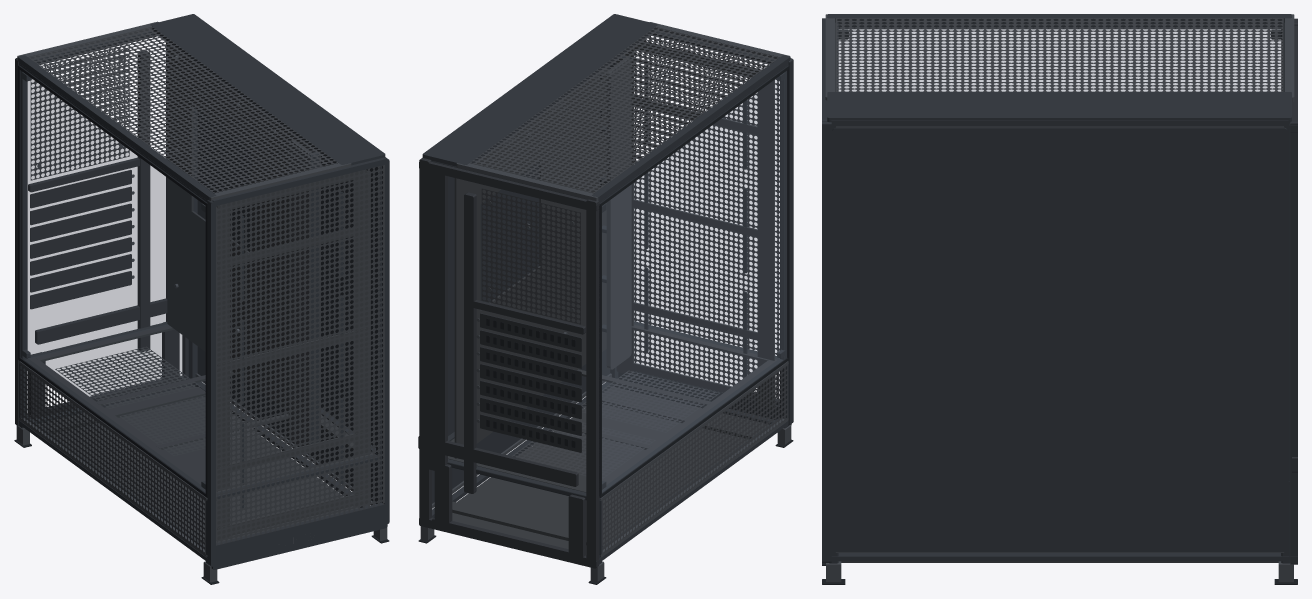
File: nzxt-h5-flow-2024.glb
3 views of the same model, side by side, from view 1: azimuth 30°, elevation 25°; view 2: azimuth 150°, elevation 25°; view 3: azimuth 270°, elevation 25° (orthographic). The views are drawn at different scales.
Visible parts, largest first — view 1: glass.case-glass-tinted, front-panel.case-perforated-steel, rear-expansion-and-ventilation.case-rear-steel, top-panel.case-perforated-steel, motherboard-tray.case-tray-stamped-steel, vented-psu-chamber.case-perforated-steel, front-panel.case-shell-coated-steel, top-panel.case-shell-coated-steel, chassis-frame.case-tray-stamped-steel, chassis-frame.case-shell-coated-steel, front-fan-carrier.case-tray-stamped-steel, right-panel.case-shell-coated-steel (+10 smaller); view 2: glass.case-glass-tinted, rear-expansion-and-ventilation.case-rear-steel, front-panel.case-perforated-steel, top-panel.case-perforated-steel, motherboard-tray.case-tray-stamped-steel, chassis-frame.case-tray-stamped-steel, vented-psu-chamber.case-perforated-steel, top-panel.case-shell-coated-steel, front-fan-carrier.case-tray-stamped-steel, chassis-frame.case-shell-coated-steel, rear-expansion-and-ventilation.case-perforated-steel, right-panel.case-shell-coated-steel (+9 smaller); view 3: right-panel.case-shell-coated-steel, top-panel.case-perforated-steel, top-panel.case-shell-coated-steel, chassis-frame.case-shell-coated-steel, glass.case-glass-tinted, front-panel.case-shell-coated-steel, rear-expansion-and-ventilation.case-rear-steel, top-panel.case-frame-rail, right-panel.case-frame-rail, chassis-frame.case-tray-stamped-steel, chassis-frame.case-frame-rail.
Part boxes in pixels (box(x1,y1,x2,y2)): glass.case-glass-tinted: box(20, 71, 205, 492); front-panel.case-perforated-steel: box(216, 165, 383, 545); rear-expansion-and-ventilation.case-rear-steel: box(15, 36, 188, 425); top-panel.case-perforated-steel: box(28, 27, 337, 192); motherboard-tray.case-tray-stamped-steel: box(167, 43, 320, 432); vented-psu-chamber.case-perforated-steel: box(20, 346, 263, 553); front-panel.case-shell-coated-steel: box(207, 157, 389, 569); top-panel.case-shell-coated-steel: box(18, 14, 385, 200); chassis-frame.case-tray-stamped-steel: box(38, 386, 357, 546); chassis-frame.case-shell-coated-steel: box(18, 31, 381, 564); front-fan-carrier.case-tray-stamped-steel: box(216, 169, 370, 540); right-panel.case-shell-coated-steel: box(197, 110, 375, 503); glass.case-glass-tinted: box(602, 72, 786, 492); rear-expansion-and-ventilation.case-rear-steel: box(418, 157, 599, 568); front-panel.case-perforated-steel: box(634, 36, 779, 398); top-panel.case-perforated-steel: box(470, 27, 779, 192); motherboard-tray.case-tray-stamped-steel: box(454, 67, 607, 458); chassis-frame.case-tray-stamped-steel: box(452, 387, 768, 554); vented-psu-chamber.case-perforated-steel: box(512, 364, 787, 553); top-panel.case-shell-coated-steel: box(422, 14, 789, 200); front-fan-carrier.case-tray-stamped-steel: box(616, 42, 774, 409); chassis-frame.case-shell-coated-steel: box(431, 31, 788, 564); rear-expansion-and-ventilation.case-perforated-steel: box(481, 188, 580, 324); right-panel.case-shell-coated-steel: box(432, 66, 610, 503); right-panel.case-shell-coated-steel: box(832, 128, 1287, 551); top-panel.case-perforated-steel: box(835, 18, 1283, 91); top-panel.case-shell-coated-steel: box(827, 14, 1291, 122); chassis-frame.case-shell-coated-steel: box(829, 22, 1292, 563); glass.case-glass-tinted: box(839, 29, 1280, 91); front-panel.case-shell-coated-steel: box(822, 18, 831, 565); rear-expansion-and-ventilation.case-rear-steel: box(1290, 18, 1297, 564); top-panel.case-frame-rail: box(825, 14, 1294, 101); right-panel.case-frame-rail: box(835, 126, 1284, 552); chassis-frame.case-tray-stamped-steel: box(841, 561, 1278, 562); chassis-frame.case-frame-rail: box(826, 561, 1293, 582).
Bounding box in the file's own units: 0.225 × 0.465 × 0.43.
